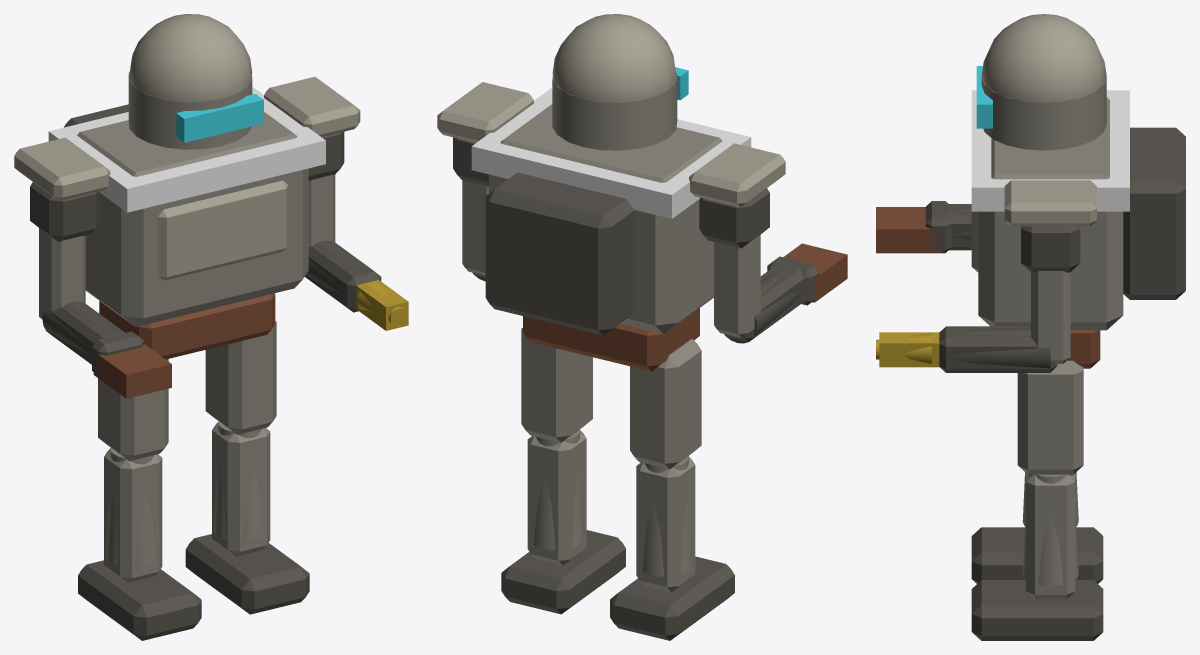
The picture shows the model from 3 angles, left to right: view 1: azimuth 30°, elevation 25°; view 2: azimuth 150°, elevation 25°; view 3: azimuth 270°, elevation 25°; orthographic projection.
Visible parts, largest first — view 1: dweller_robot_builder; view 2: dweller_robot_builder; view 3: dweller_robot_builder.
Part boxes in pixels (x1,y1,x2,y2): dweller_robot_builder: (14, 14, 408, 640); dweller_robot_builder: (437, 14, 847, 640); dweller_robot_builder: (876, 14, 1185, 640).
Size of the model in its own units: 1.08 by 1.95 by 0.94.
